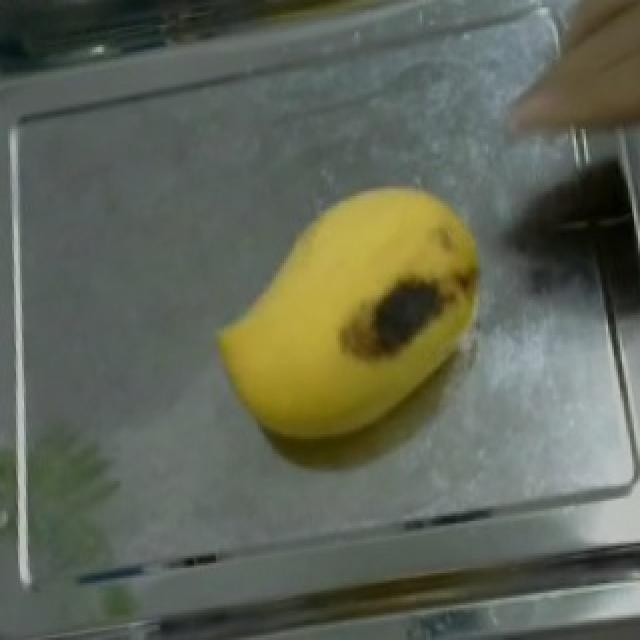fruit: (192, 144, 508, 476)
